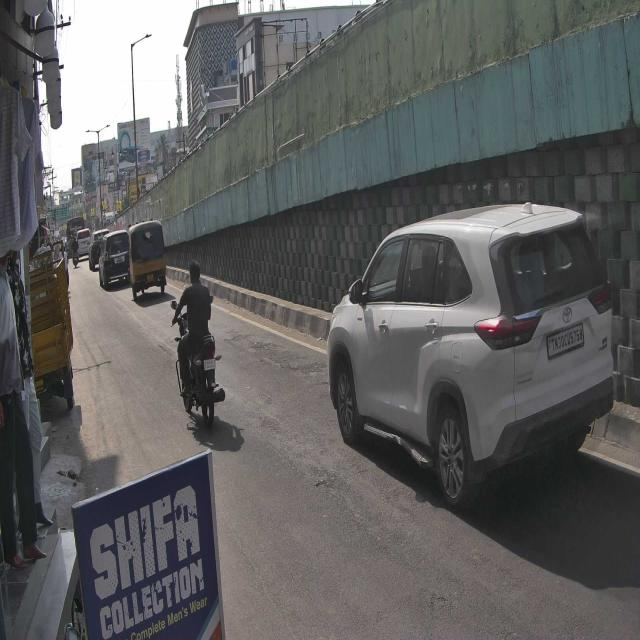single_rider: (170, 254, 228, 432)
